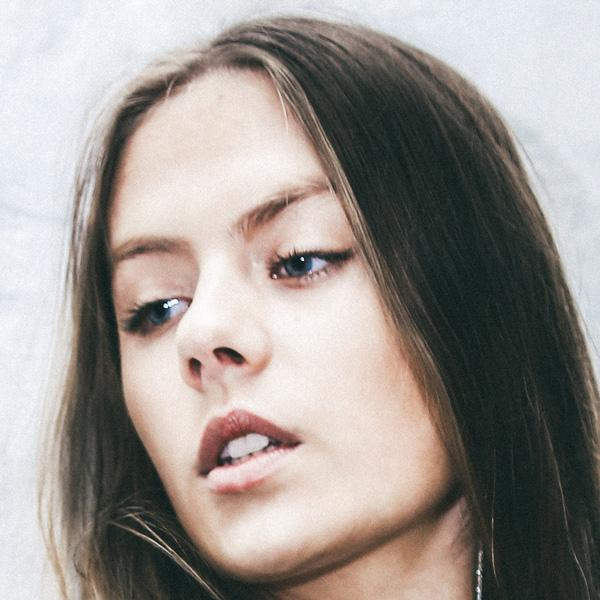Eyes: (256, 224, 359, 301), (116, 278, 206, 343)
